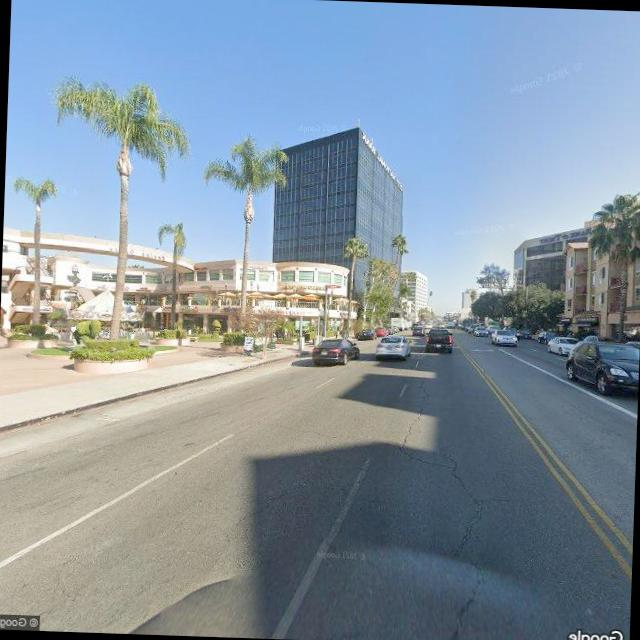pothole: (413, 434, 498, 640), (398, 373, 436, 456)
